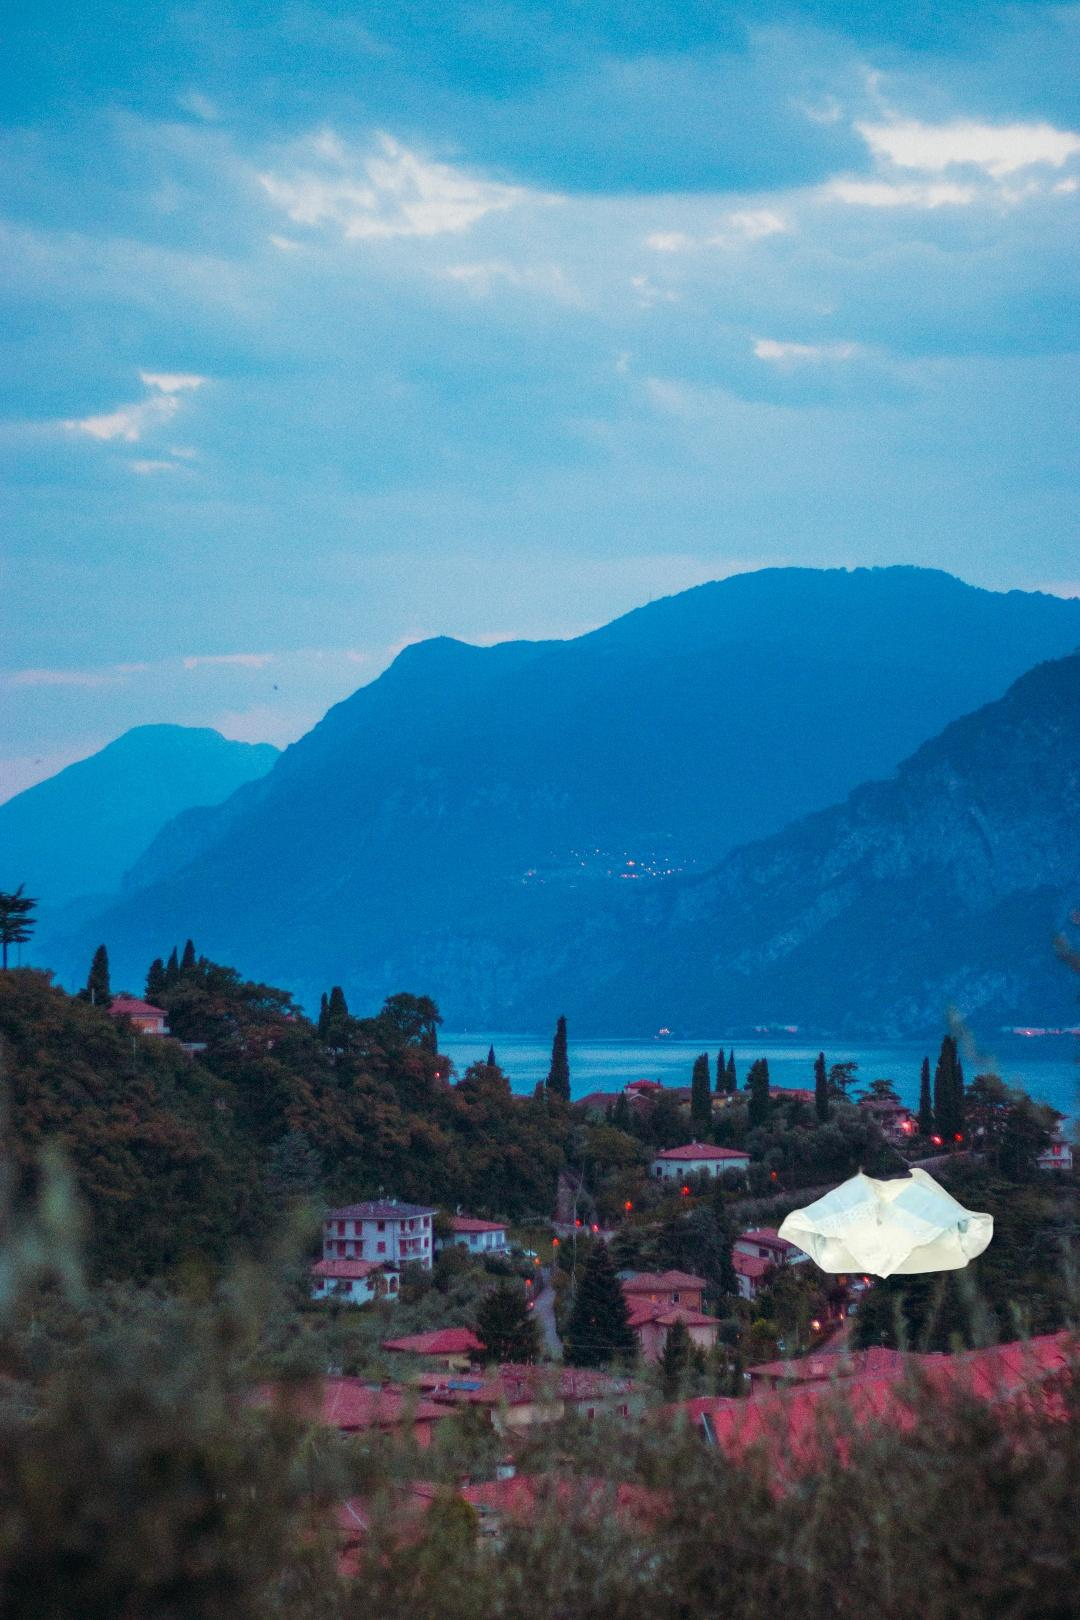trash: (774, 1162, 997, 1284)
